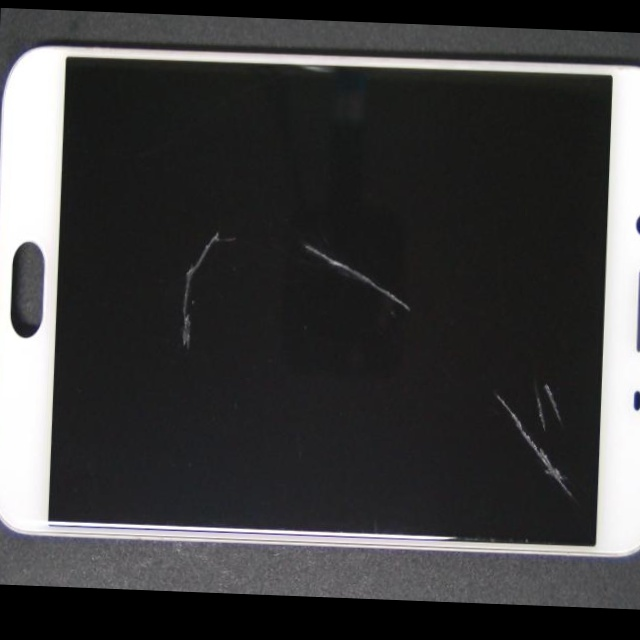scratch: (247, 176, 640, 591), (249, 170, 640, 580), (261, 205, 582, 420), (103, 148, 336, 372)
